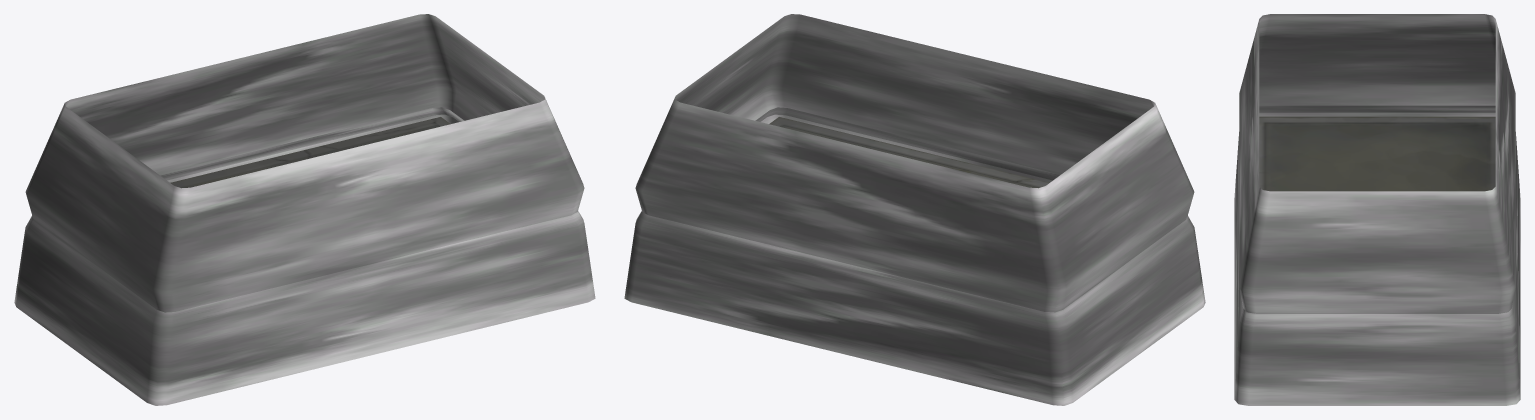
The model's file is char_dath_altar_01_pre.glb.
The picture shows the model from 3 angles, left to right: view 1: azimuth 30°, elevation 25°; view 2: azimuth 150°, elevation 25°; view 3: azimuth 270°, elevation 25°; orthographic projection.
Parts seen in each view (by area): view 1: vfx_dath_altar_01, dath_altar_01_mesh; view 2: vfx_dath_altar_01, dath_altar_01_mesh; view 3: vfx_dath_altar_01, dath_altar_01_mesh.
Part boxes in pixels (x1,y1,x2,y2): vfx_dath_altar_01: (14,14,595,405); dath_altar_01_mesh: (170,117,450,188); vfx_dath_altar_01: (624,14,1205,405); dath_altar_01_mesh: (769,117,1049,188); vfx_dath_altar_01: (1234,14,1520,405); dath_altar_01_mesh: (1259,116,1495,191).
Size of the model in its own units: 2.95 by 1.41 by 1.66.
Materials: 2 (2 with a texture image).
